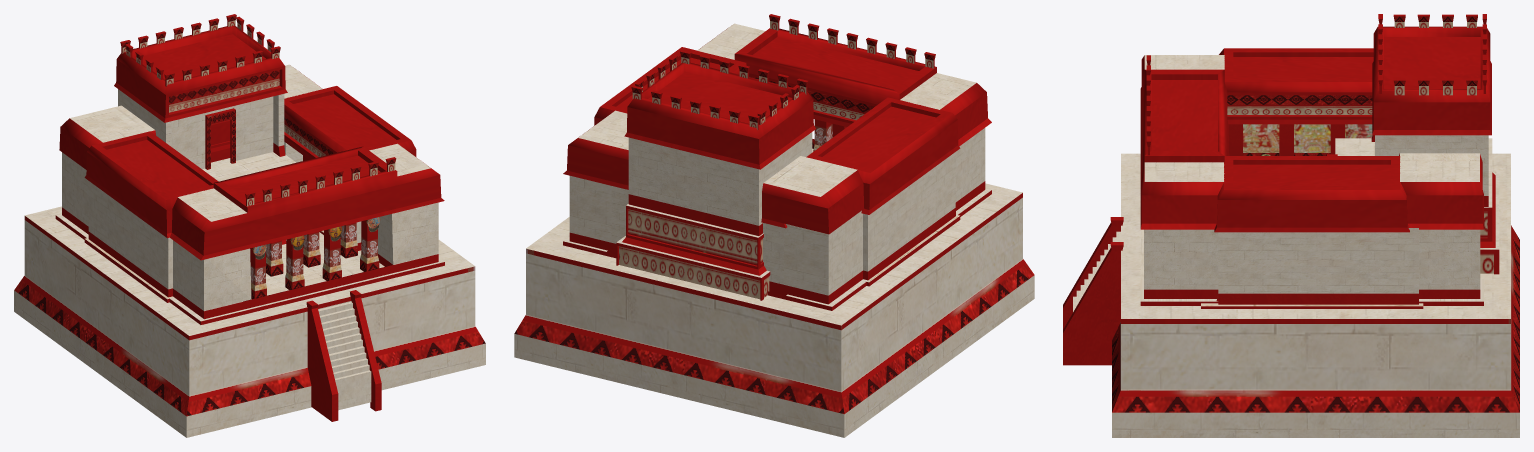
File: fortress.dae
3 renders of one model, left to right at view 1: azimuth 30°, elevation 25°; view 2: azimuth 150°, elevation 25°; view 3: azimuth 270°, elevation 25°, orthographic. The views are drawn at different scales.
Parts seen in each view (by area): view 1: fortress; view 2: fortress; view 3: fortress.
Boxes of the visible parts, bbox=[...] form: fortress: bbox=[14, 14, 485, 437]; fortress: bbox=[514, 14, 1034, 437]; fortress: bbox=[1063, 14, 1519, 437].
Size of the model in its own units: 33.26 by 37.16 by 27.33.
